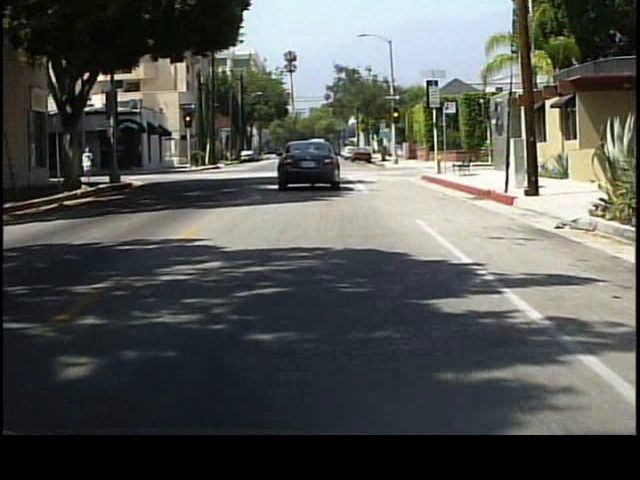person: (81, 143, 96, 185)
